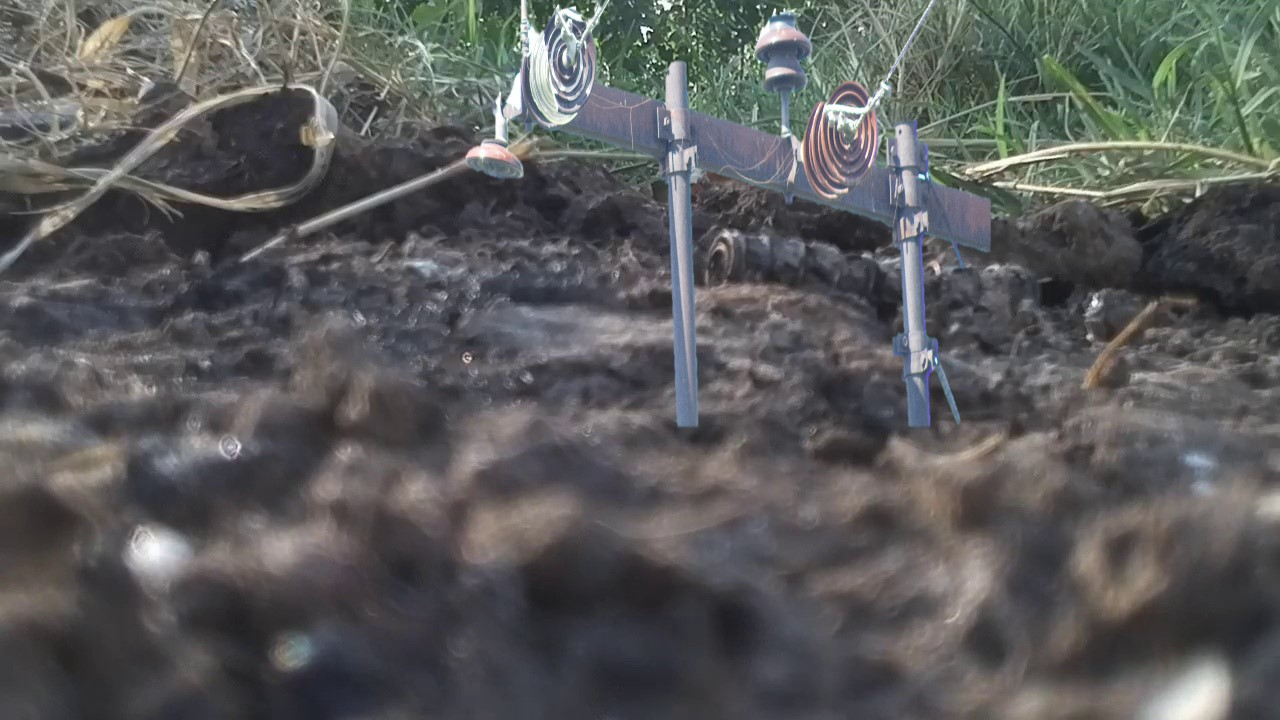defect_disc: (534, 14, 600, 113)
insulator_disc: (818, 85, 880, 185), (465, 136, 534, 189)
